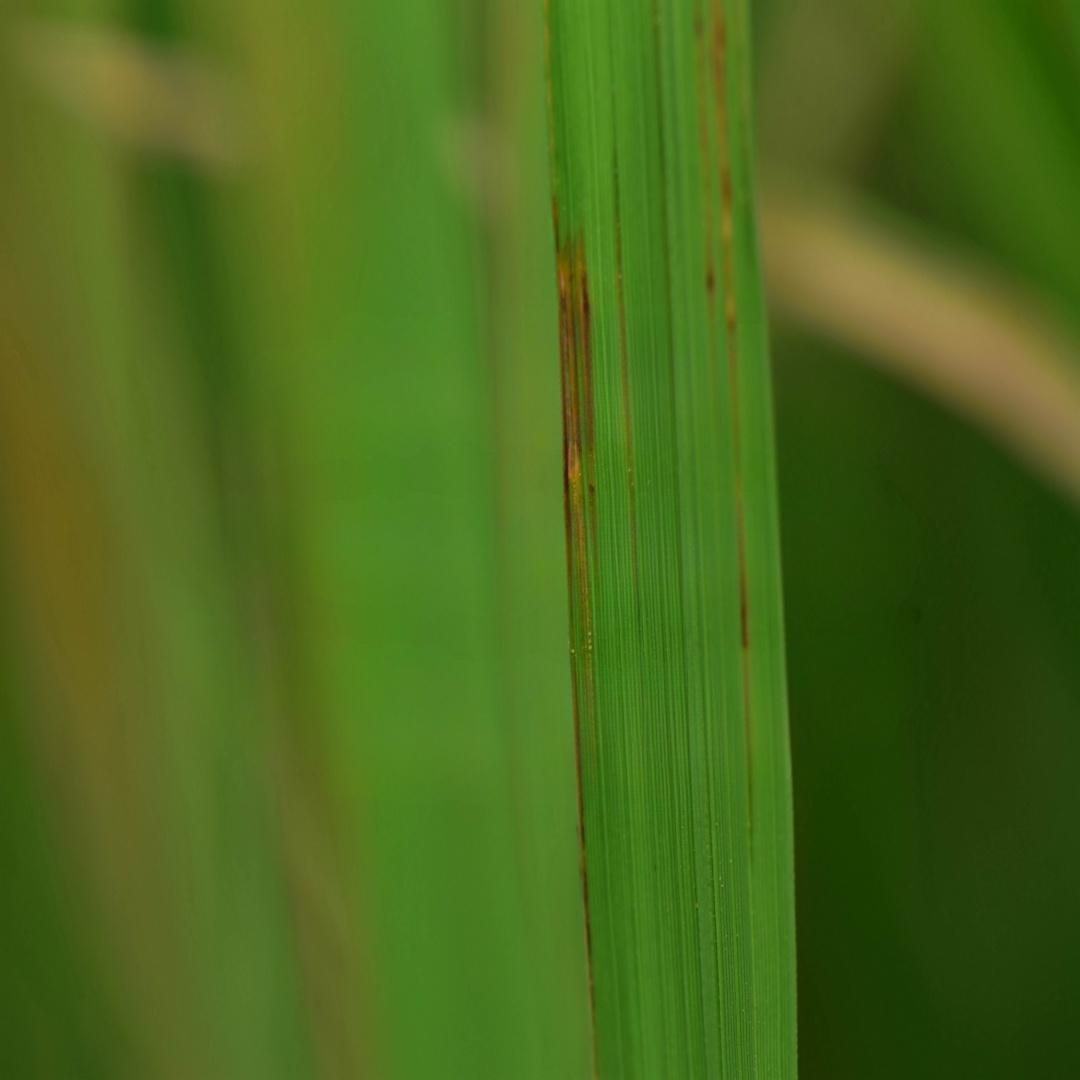BLS: (551, 195, 598, 1071), (710, 1, 752, 745), (607, 30, 642, 619), (651, 2, 675, 423), (693, 4, 716, 318)
LEAF: (543, 0, 798, 1079)
